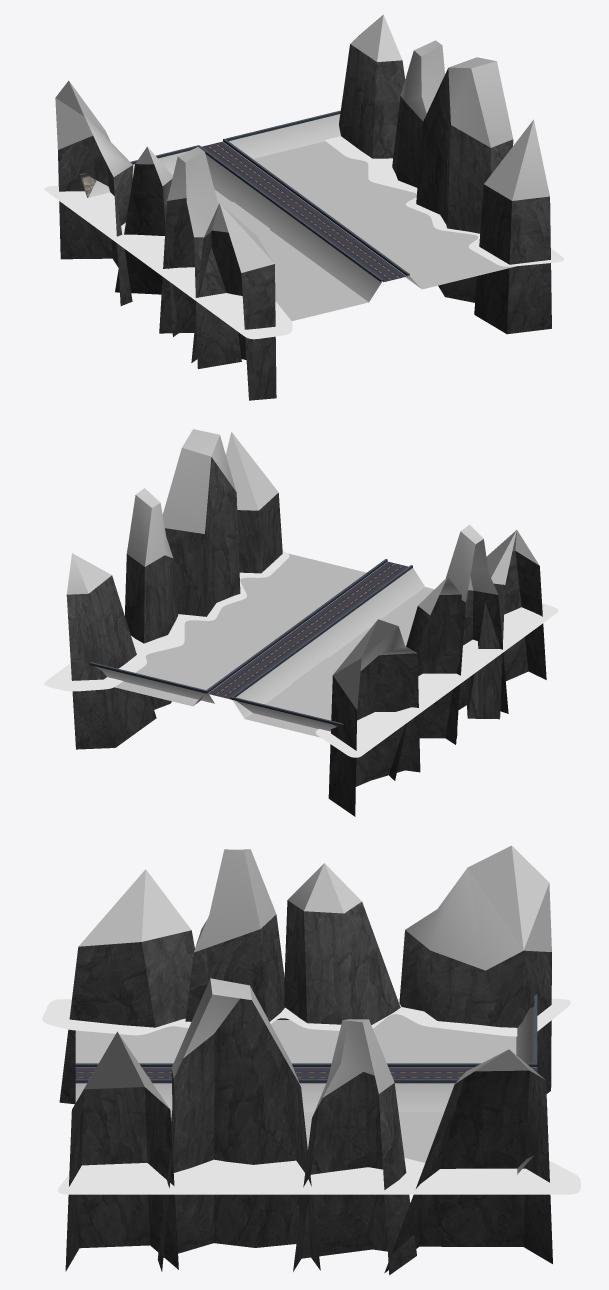
Rendered from citywinter_13.fbx.
3 views of the same model, one above another, from view 1: azimuth 30°, elevation 25°; view 2: azimuth 150°, elevation 25°; view 3: azimuth 270°, elevation 25° (orthographic). The views are drawn at different scales.
Parts seen in each view (by area): view 1: City_13; view 2: City_13; view 3: City_13.
Part boxes in pixels (bbox=[...]): City_13: bbox=[44, 14, 564, 400]; City_13: bbox=[44, 429, 558, 816]; City_13: bbox=[42, 845, 580, 1275].
Size of the model in its own units: 22617 by 13384 by 25170.
